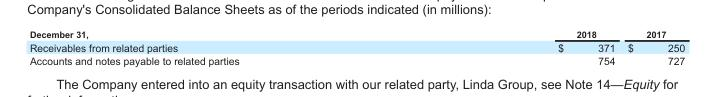table: (28, 28, 684, 65)
table column: (28, 28, 397, 65), (397, 28, 620, 65), (620, 28, 684, 65)
table column header: (28, 28, 684, 39)
table row: (28, 39, 684, 53), (28, 53, 684, 65), (28, 28, 684, 39)
